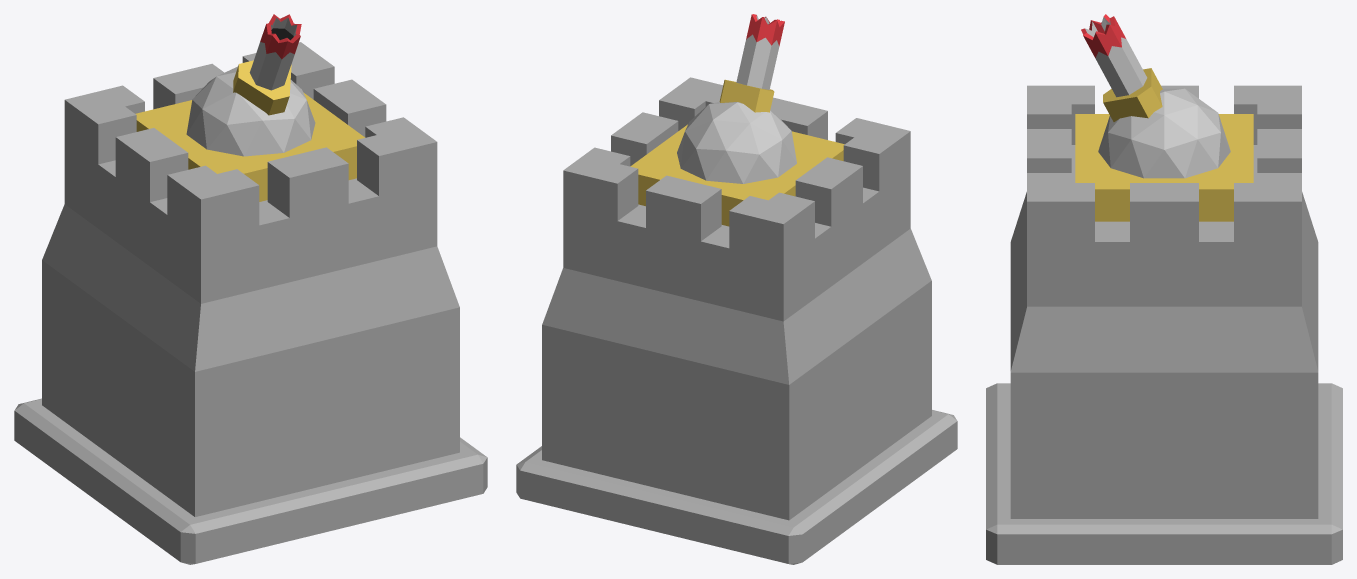
Rendered from fire_mortar.fbx.
3 renders of one model, left to right at view 1: azimuth 30°, elevation 25°; view 2: azimuth 150°, elevation 25°; view 3: azimuth 270°, elevation 25°, orthographic. The views are drawn at different scales.
Parts seen in each view (by area): view 1: Cube.045, Cube.046, Cube, Icosphere.002, Cube.044, Cylinder.007, Cylinder.005; view 2: Cube.045, Cube.046, Cube, Icosphere.002, Cube.044, Cylinder.007, Cylinder.005; view 3: Cube.045, Cube, Cube.046, Icosphere.002, Cube.044, Cylinder.007, Cylinder.005.
Boxes of the visible parts, x1,y1,x2,y2 form: Cube.045: [42, 140, 459, 516]; Cube.046: [64, 42, 437, 239]; Cube: [14, 398, 487, 564]; Icosphere.002: [186, 66, 315, 156]; Cube.044: [135, 92, 365, 201]; Cylinder.007: [249, 14, 301, 90]; Cylinder.005: [233, 60, 291, 115]; Cube.045: [542, 169, 931, 520]; Cube.046: [563, 77, 910, 261]; Cube: [516, 410, 957, 564]; Icosphere.002: [677, 102, 796, 183]; Cube.044: [630, 124, 844, 226]; Cylinder.007: [736, 14, 784, 89]; Cylinder.005: [719, 79, 774, 112]; Cube.045: [1010, 145, 1318, 518]; Cube: [986, 383, 1342, 564]; Cube.046: [1027, 85, 1301, 241]; Icosphere.002: [1098, 88, 1230, 178]; Cube.044: [1075, 114, 1253, 221]; Cylinder.007: [1081, 14, 1147, 97]; Cylinder.005: [1103, 68, 1162, 121].
Bounding box in the file's own units: 400 × 590 × 400.
